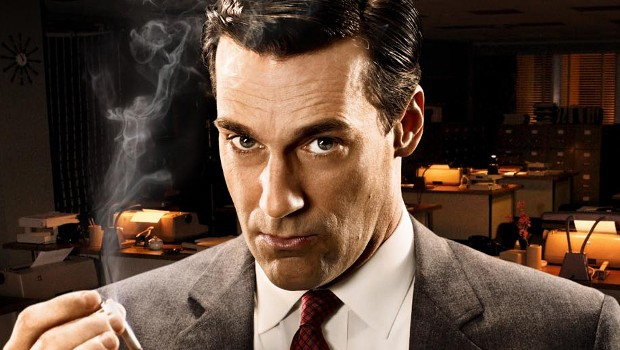cigarette: (101, 303, 144, 350)
